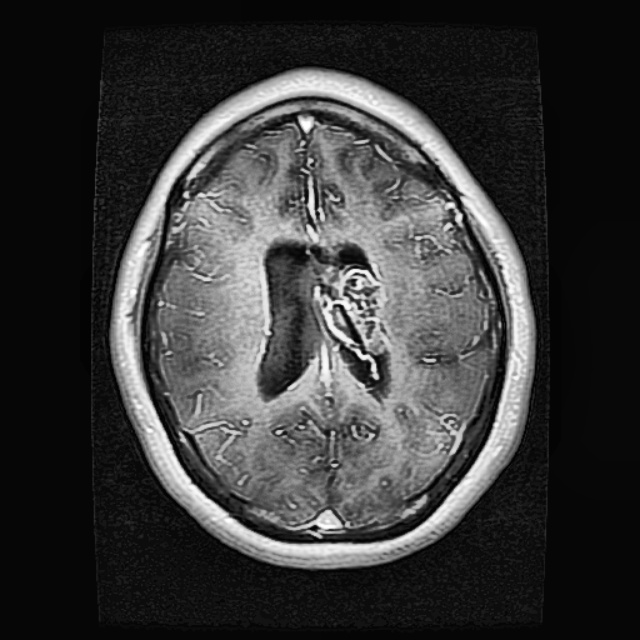Glioma: (303, 259, 389, 364)
